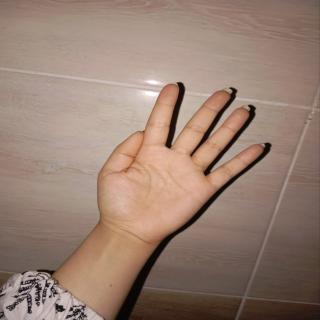SHEEN: (90, 78, 277, 265)
